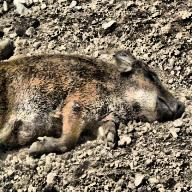boar: (0, 30, 185, 159)
